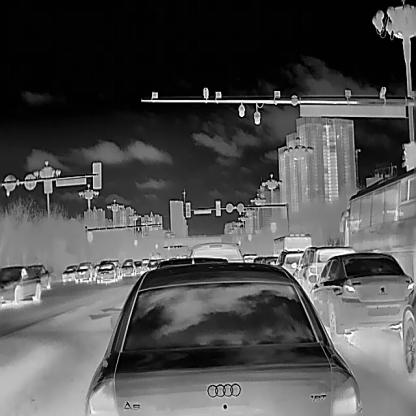bus: (338, 166, 416, 280), (271, 234, 313, 258)
car: (83, 262, 362, 416), (306, 250, 414, 342), (290, 243, 357, 295), (0, 265, 42, 305), (402, 284, 415, 376), (189, 240, 243, 262), (269, 245, 306, 274), (26, 263, 51, 290), (73, 259, 97, 283), (96, 259, 118, 284), (61, 263, 80, 281), (121, 258, 136, 277), (253, 256, 277, 265), (146, 258, 160, 270), (133, 260, 144, 274), (243, 252, 256, 262)
